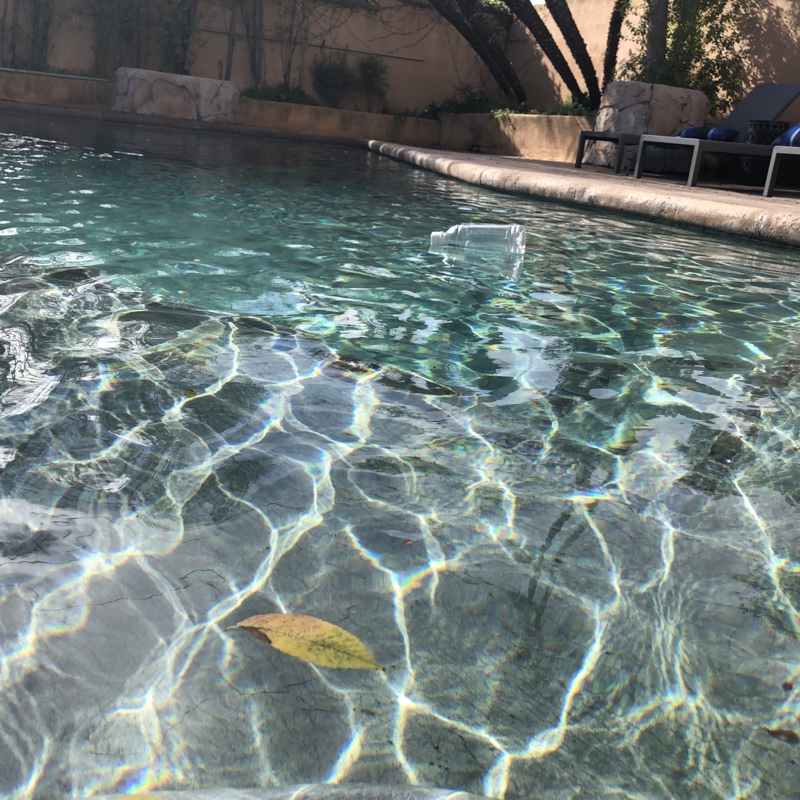Plastic Bottle: (426, 220, 529, 260)
